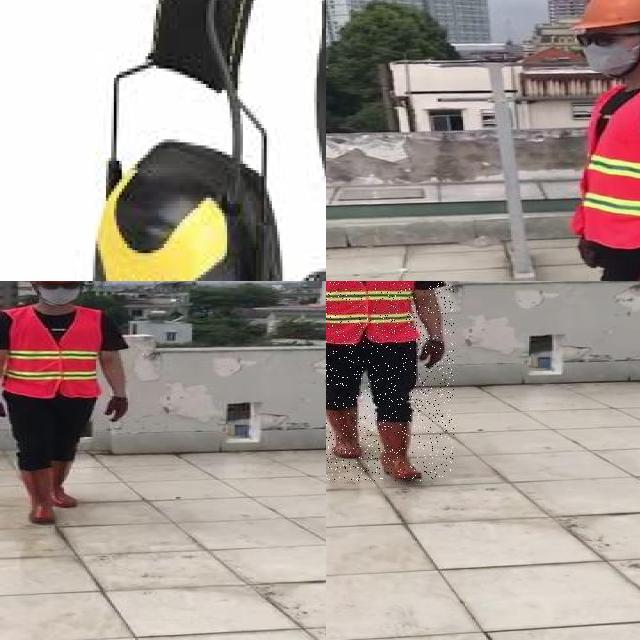Ear-protection: (87, 133, 282, 281)
boots: (378, 420, 424, 481), (19, 466, 57, 524), (326, 406, 363, 457), (50, 459, 84, 507)
face_mask: (575, 29, 640, 78), (35, 281, 81, 304)
glasses: (569, 28, 624, 49), (35, 281, 83, 291)
hand_glove: (105, 396, 128, 424), (0, 396, 9, 425)
head_helmet: (570, 0, 640, 32)
person: (0, 281, 134, 531), (533, 0, 640, 281), (326, 281, 454, 481)
vest: (575, 77, 640, 244), (7, 305, 100, 398), (326, 281, 421, 343)
